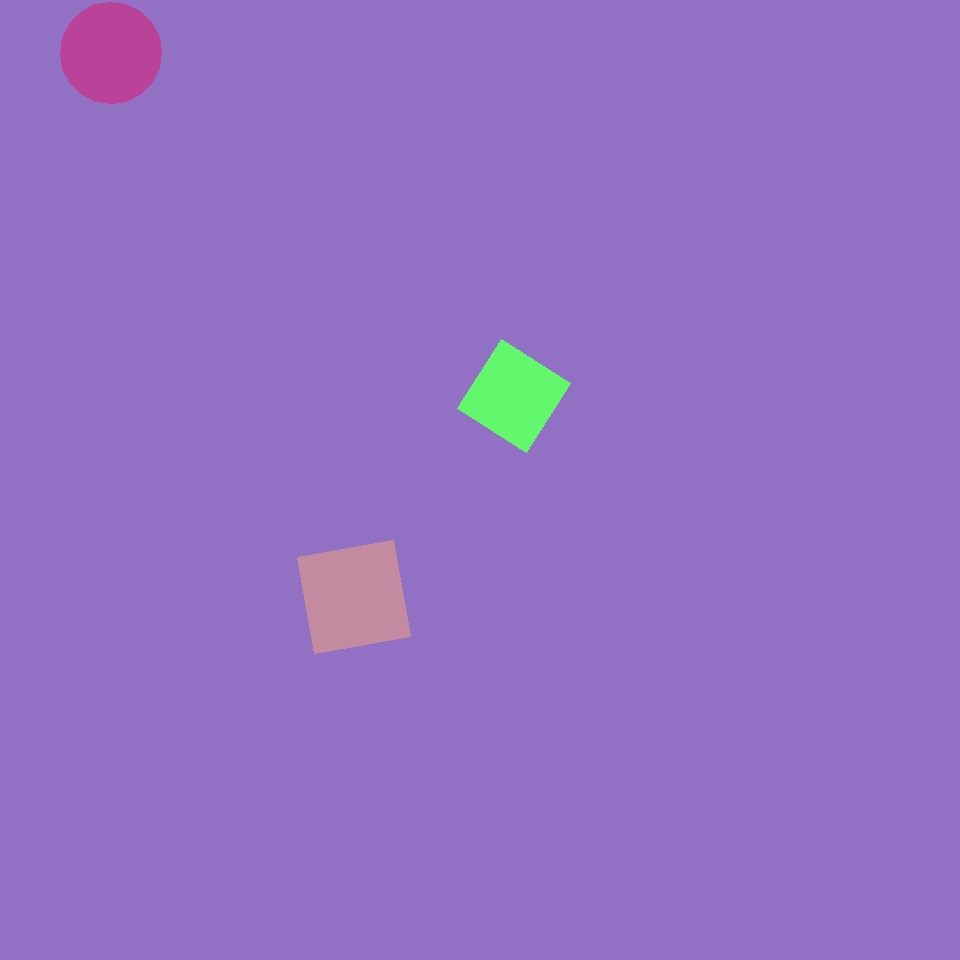square: (298, 540, 410, 654), (458, 340, 570, 452), (325, 235, 420, 329)
triangle: (126, 352, 485, 711), (21, 324, 263, 566), (60, 2, 162, 104)
